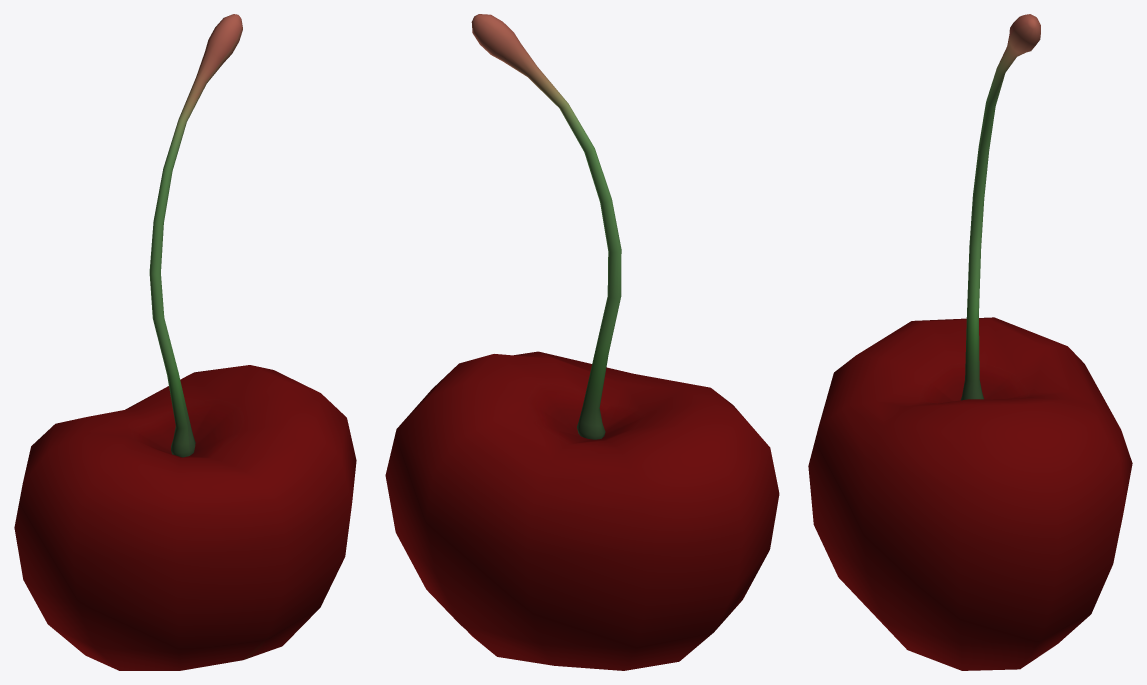
Rendered from cherry1.fbx.
3 renders of one model, left to right at view 1: azimuth 30°, elevation 25°; view 2: azimuth 150°, elevation 25°; view 3: azimuth 270°, elevation 25°, orthographic. The views are drawn at different scales.
Visible parts, largest first — view 1: Cherry_1; view 2: Cherry_1; view 3: Cherry_1.
Part boxes in pixels (x1,y1,x2,y2): Cherry_1: (14,14,356,670); Cherry_1: (385,14,779,670); Cherry_1: (808,14,1132,670).
Bounding box in the file's own units: 195 × 349 × 156.
